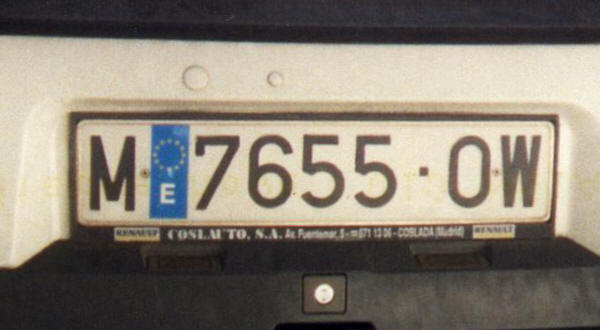license_plate: (77, 119, 554, 225)
